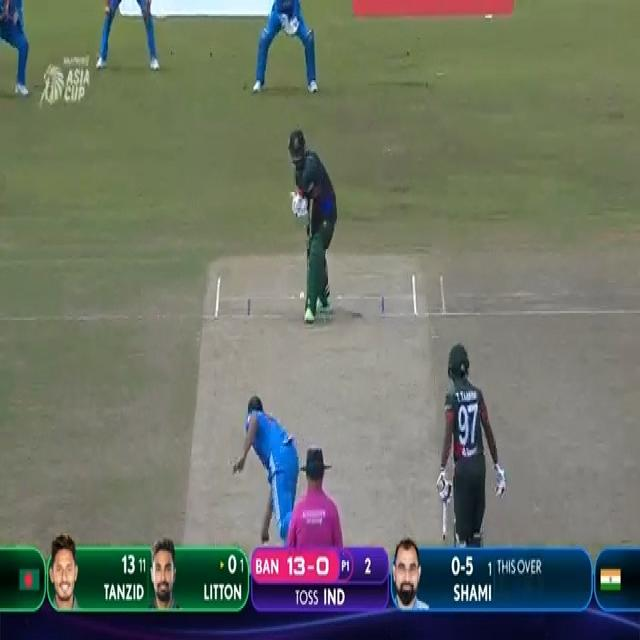Cricket ball: (299, 289, 306, 303)
